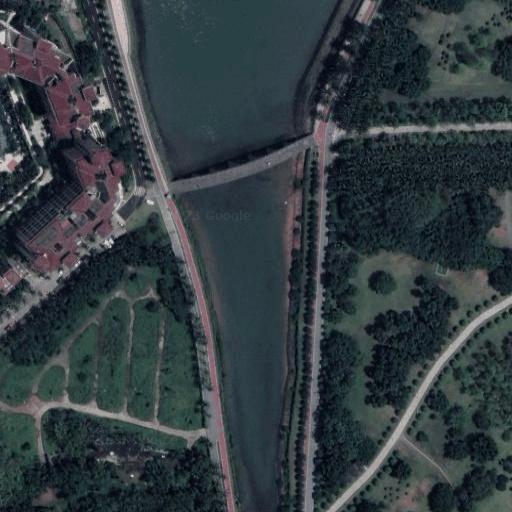building: (12, 137, 113, 262), (0, 23, 101, 137)
